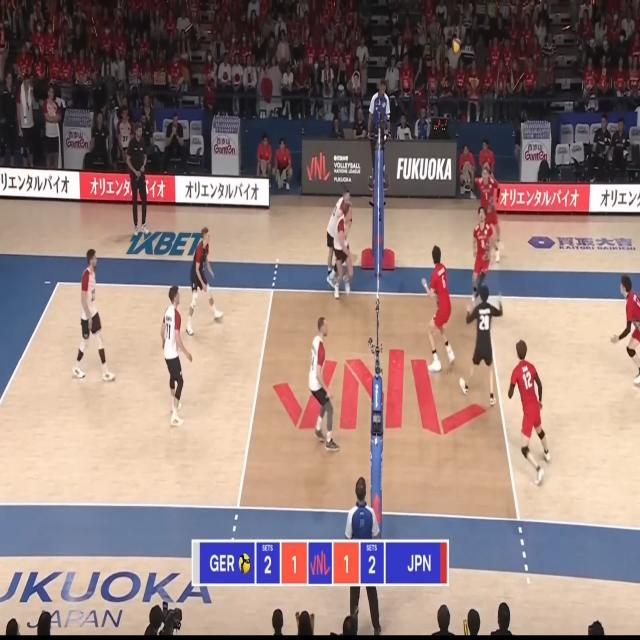ball: (453, 38, 461, 54)
